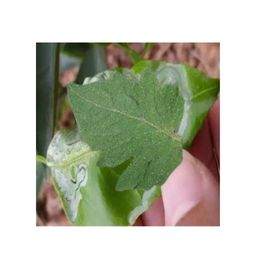liriomyza: (45, 130, 89, 224), (156, 63, 192, 138), (127, 185, 156, 225)
